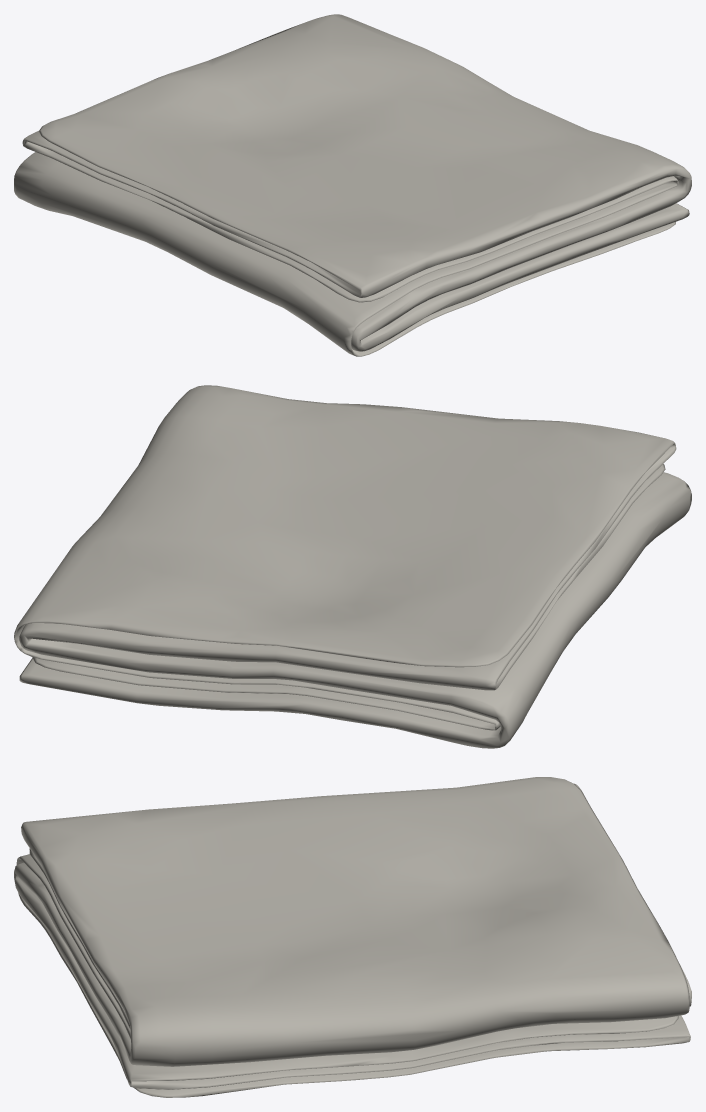
The model's file is blanket.glb.
3 views of the same model, one above another, from view 1: azimuth 30°, elevation 25°; view 2: azimuth 150°, elevation 25°; view 3: azimuth 270°, elevation 25° (orthographic). The views are drawn at different scales.
Visible parts, largest first — view 1: Blankets_0001; view 2: Blankets_0001; view 3: Blankets_0001.
Part boxes in pixels (x1,y1,x2,y2): Blankets_0001: (14, 14, 691, 356); Blankets_0001: (14, 385, 691, 748); Blankets_0001: (14, 777, 691, 1097).
Bounding box in the file's own units: 0.492 × 0.0798 × 0.5366.
Materials: 1 (1 with a texture image).
